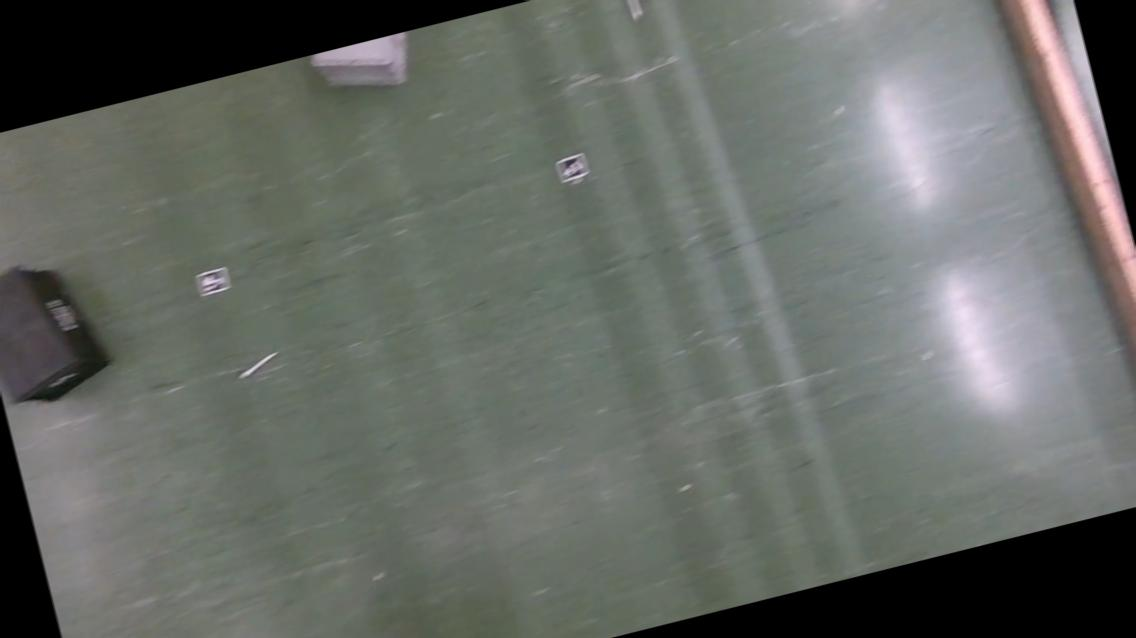probes: (239, 352, 279, 379), (621, 0, 647, 21)
rako: (0, 250, 116, 413), (309, 29, 424, 105)
